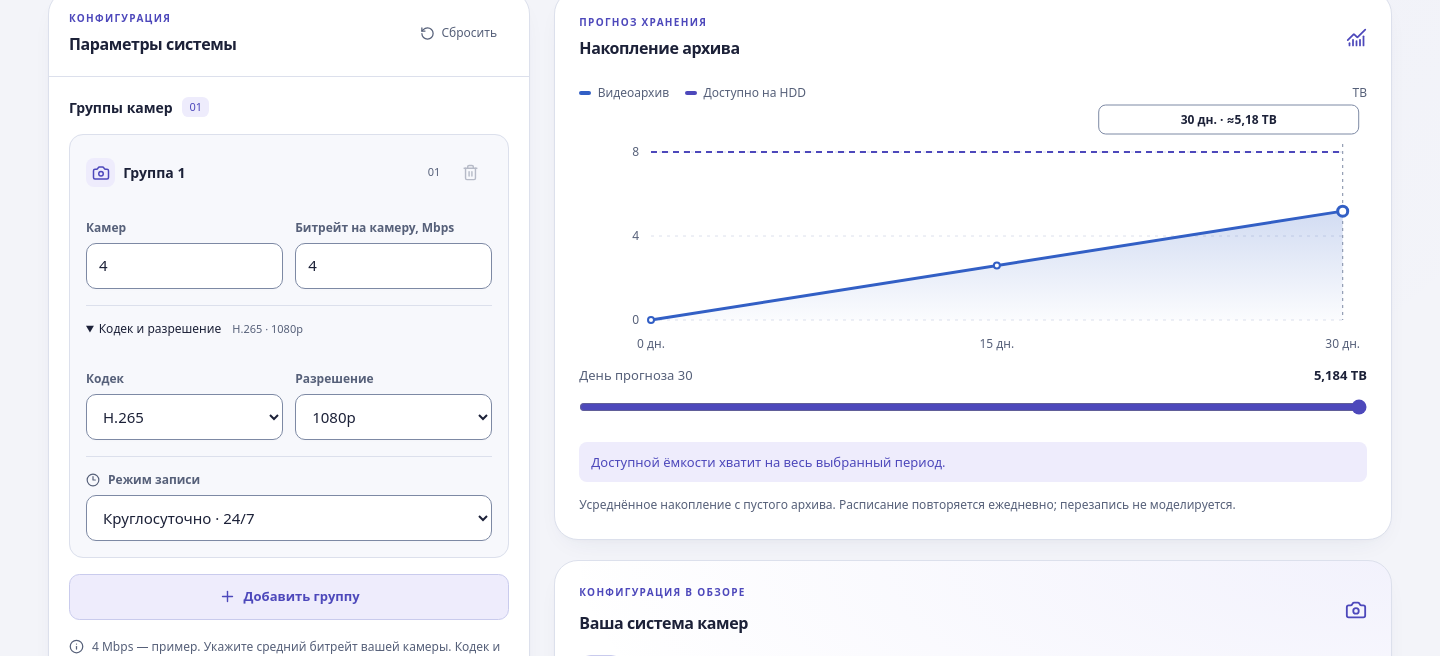
Scenario: calculator interactions › does not display a small positive volume as zero
(page scrolled)
Replace the text in the field labelled "Камер" with "1" at (185, 266), box [86,243,283,289]
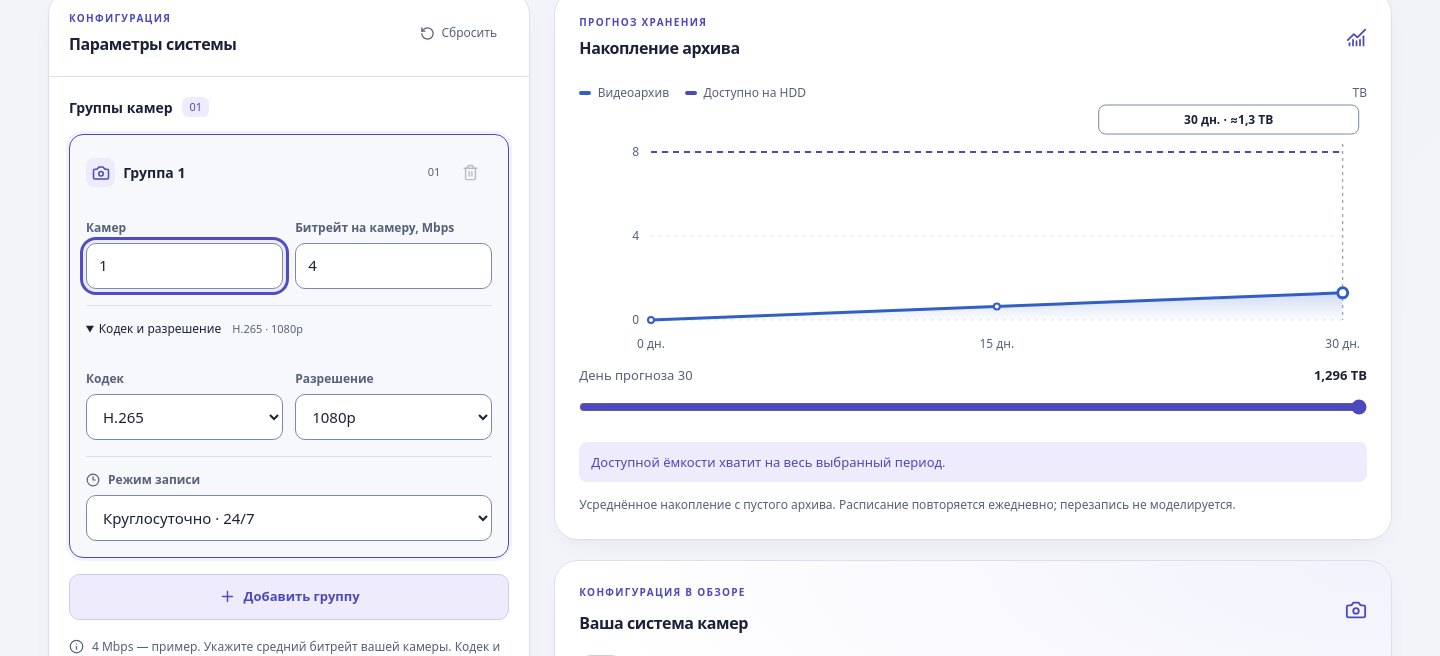
Replace the text in the field labelled "Битрейт на камеру, Mbps" with "0.001" at (394, 266), box [295,243,492,289]
(page scrolled)
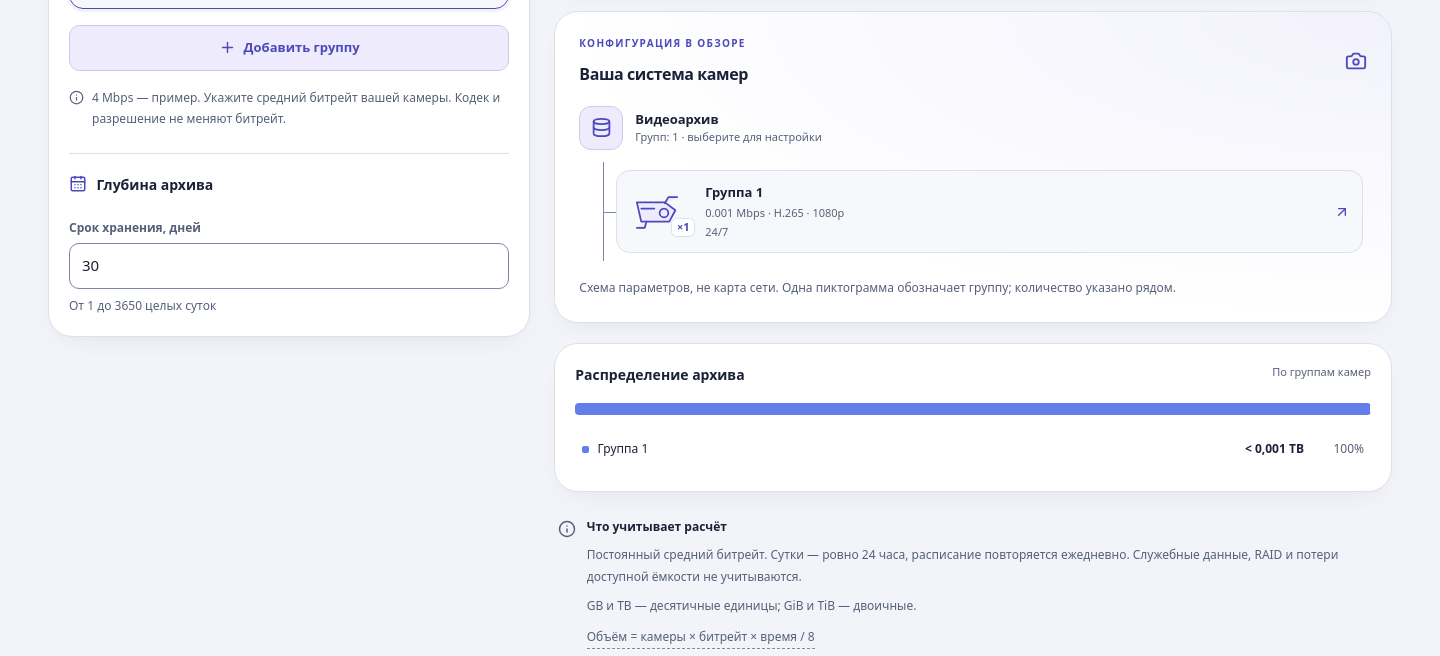
Clear the field labelled "Срок хранения, дней" at (289, 266), box [69,243,509,289]
(page scrolled)
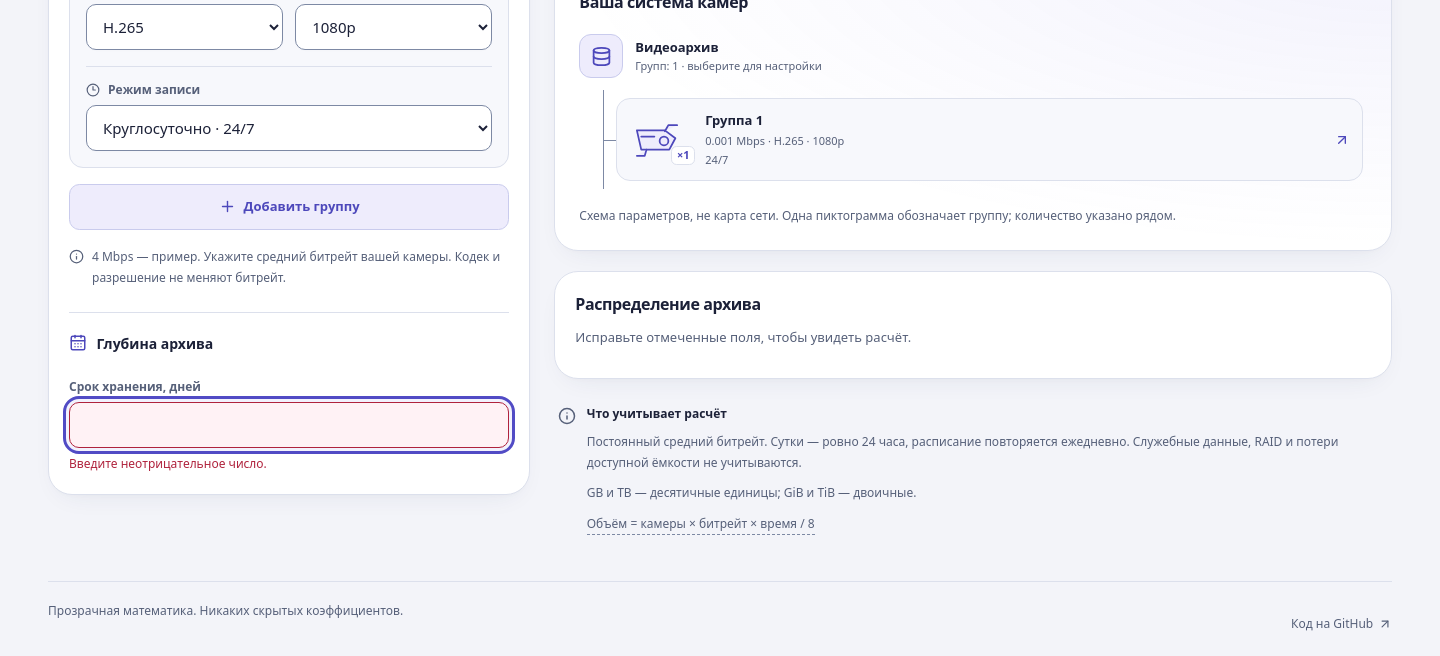
Type "1" into the field labelled "Срок хранения, дней" at (289, 425), box [69,402,509,448]
(page scrolled)
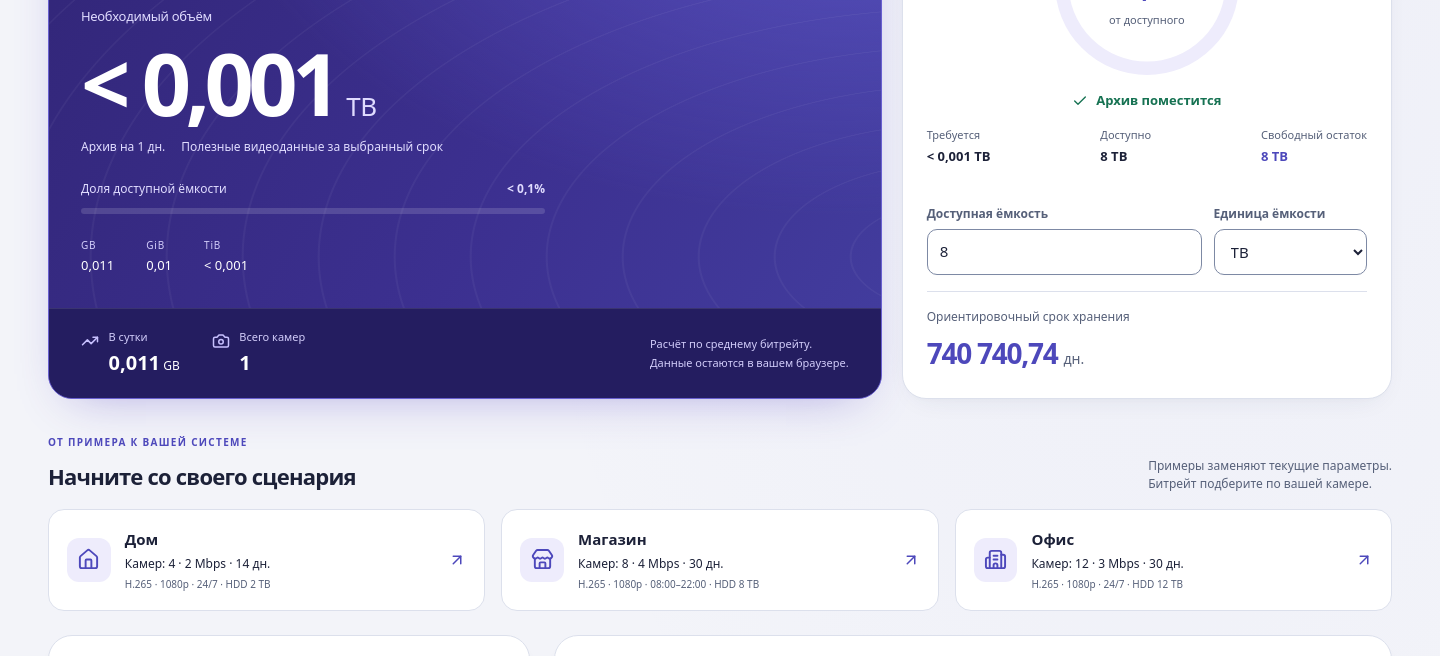
Check: the element with test id "total-tb" shows "< 0,001", box [81,24,336,141]
Check: the text with test id "total-gb" reads "0,011", box [81,256,114,274]
